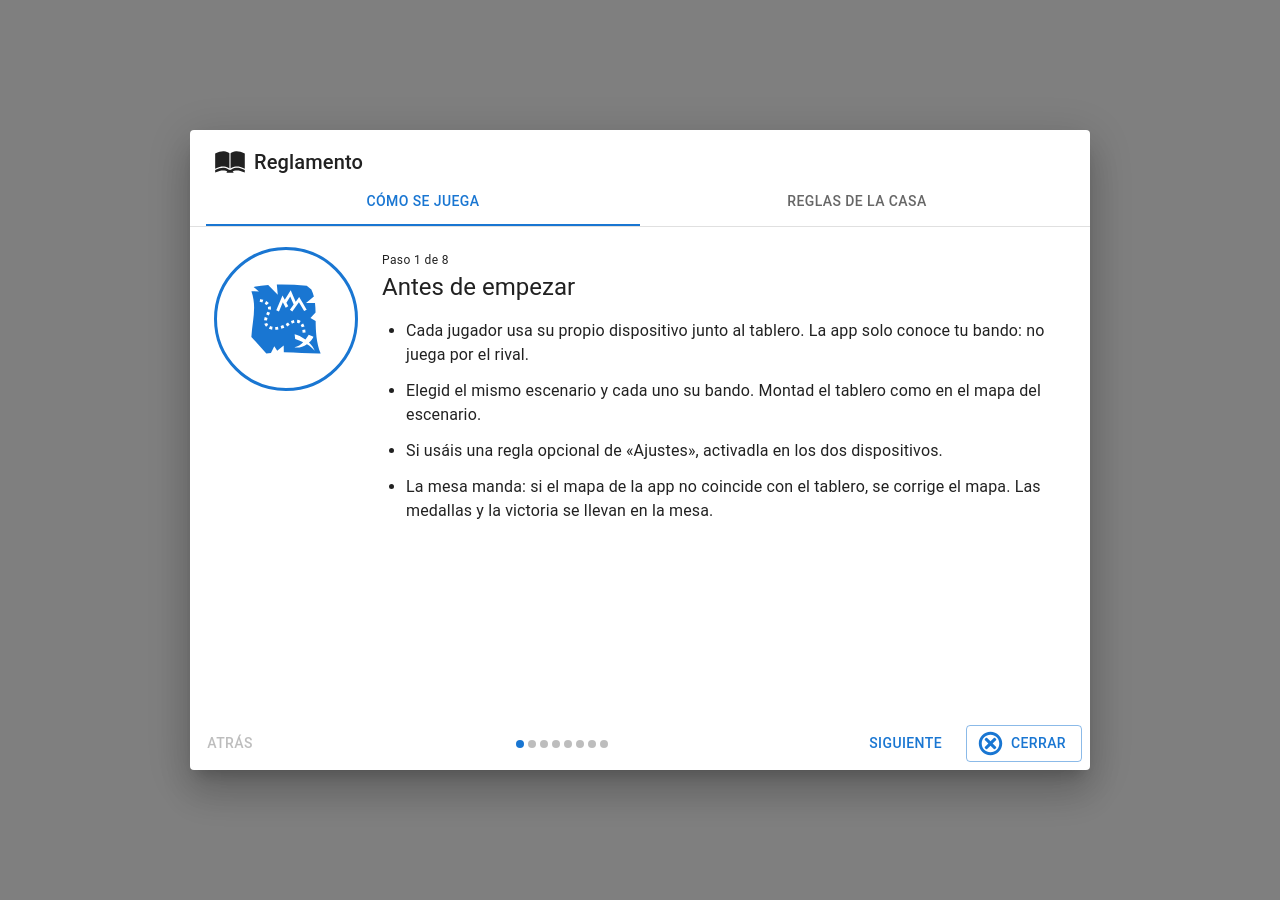
Test case: RuleBookDialog › shows each house rule beside the official one
This screenshot has width=1280, height=900.
Click the tab "Reglas de la casa" at (857, 202), box left=640, top=178, right=1074, bottom=226
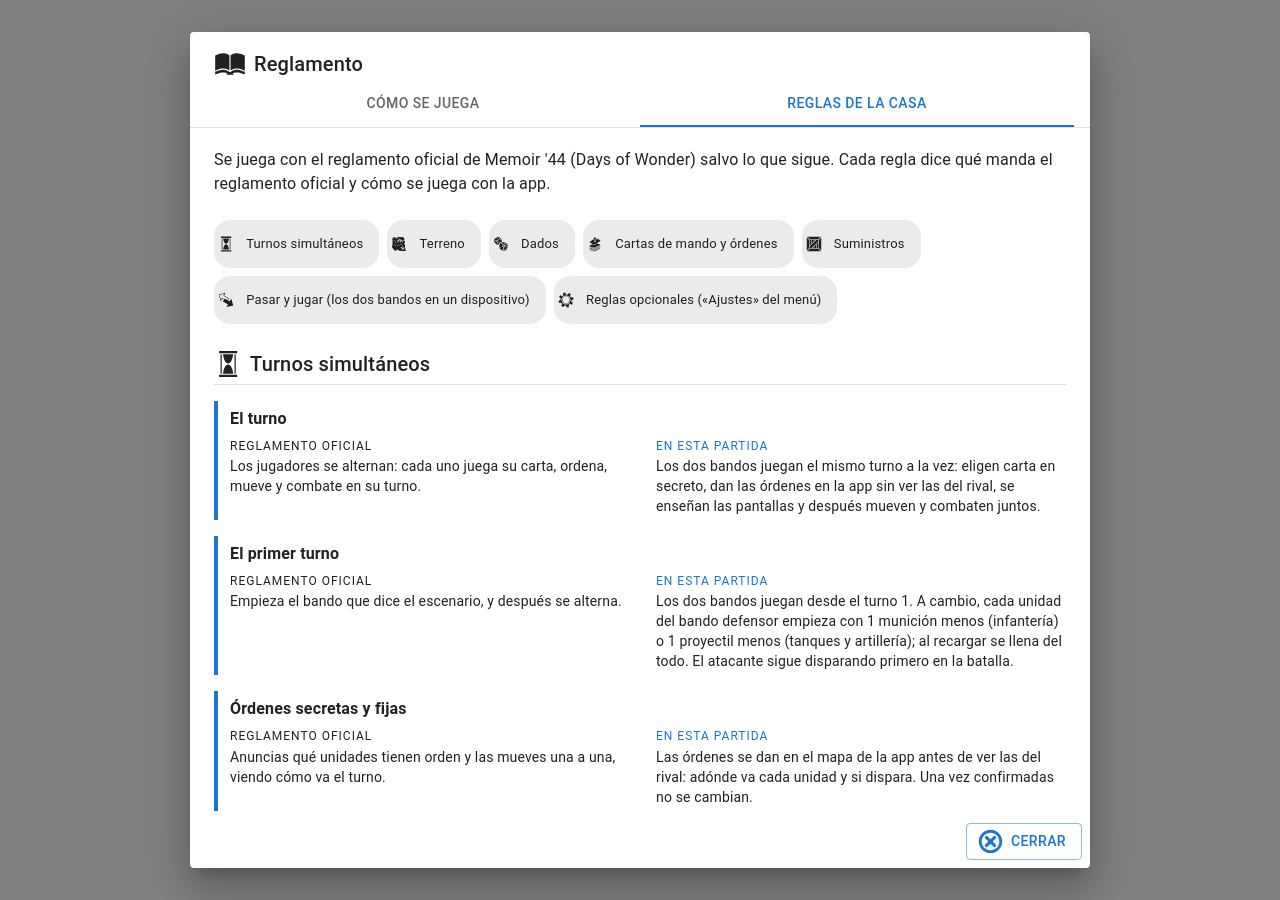
Now the button "Siguiente" is gone
